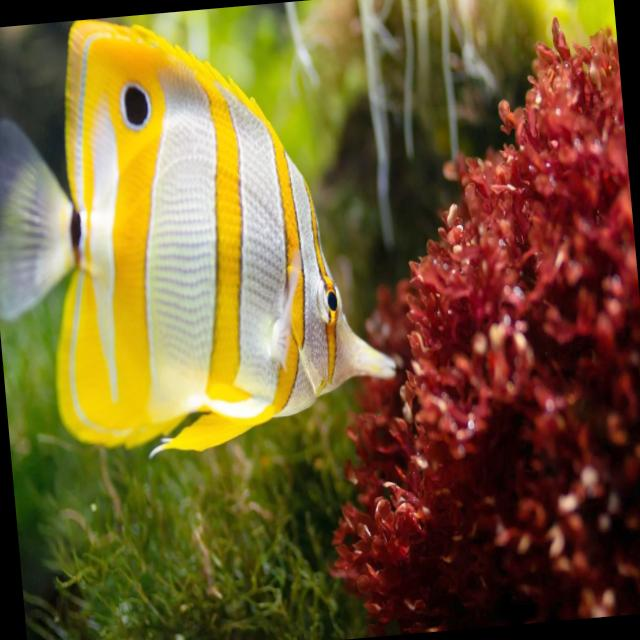ButterflyFish: (0, 0, 401, 459)
